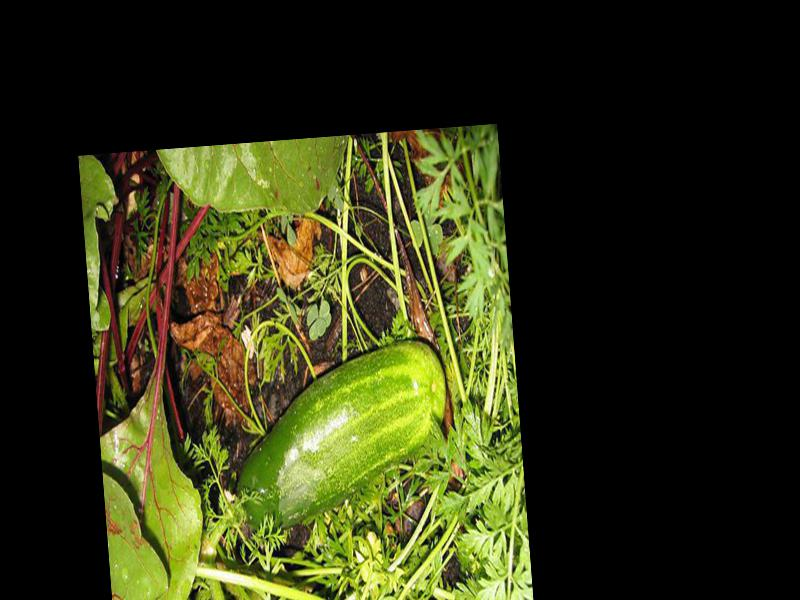Cucumber: (225, 336, 453, 540)
